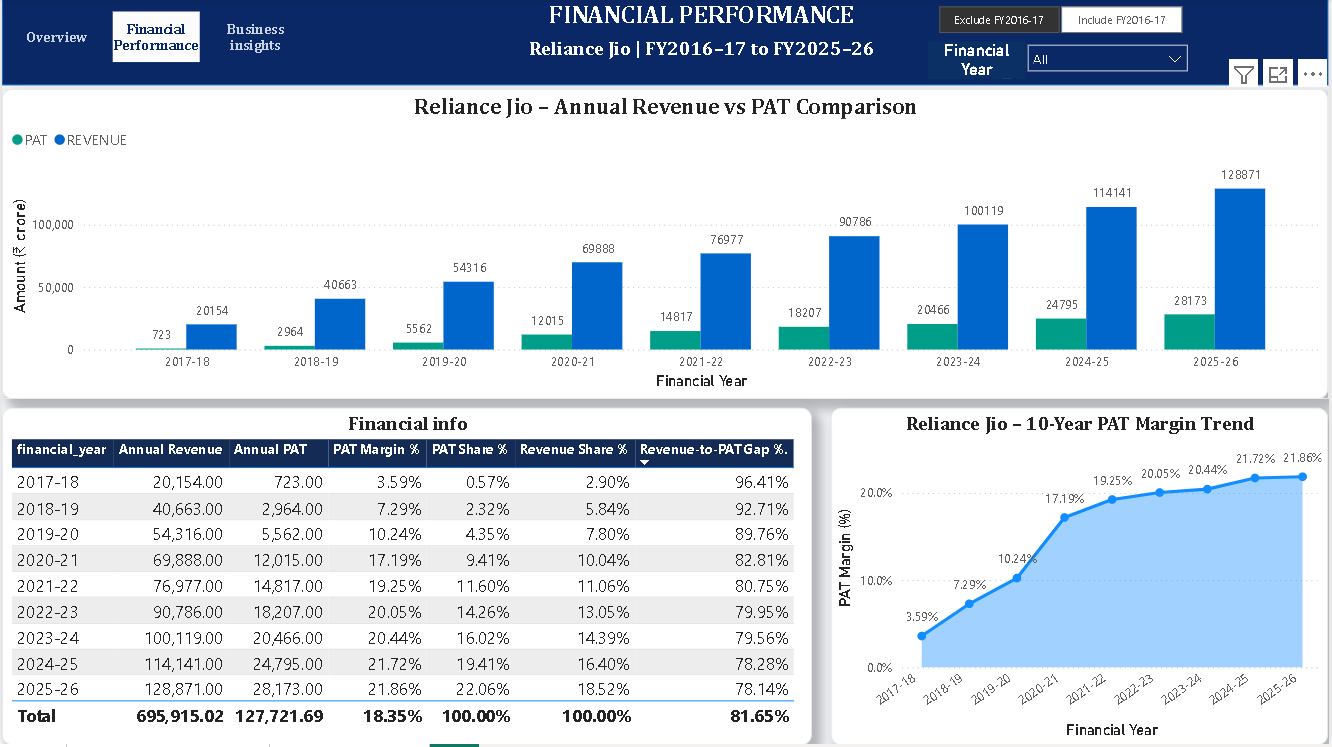

What the dashboard file says about the page in this screenshot:
{"tool":"powerbi","page":{"name":"Financial Performance","canvas":[1280,720],"ordinal":1},"visuals":[{"type":"shape","box":[0,0,1280,83.2],"z":0},{"type":"lineClusteredColumnComboChart","title":"Reliance Jio – Annual Revenue vs PAT Comparison","fields":{"Category":["public vw_jio_financial_performance.financial_year"],"Series":["public vw_jio_financial_performance.metric_code"],"Y":["public vw_jio_financial_performance.Financial Value (Selected Baseline)"]},"box":[0,86.9,1280,299.2],"z":1000},{"type":"lineChart","title":"Reliance Jio – 10-Year PAT Margin Trend","fields":{"Category":["public vw_jio_financial_performance.financial_year"],"Y":["public vw_jio_financial_performance.PAT Margin % (Selected Baseline)"]},"box":[799.9,394.5,480.2,325.7],"z":2000},{"type":"tableEx","title":"Financial info","fields":{"Values":["public vw_jio_financial_performance.financial_year","public vw_jio_financial_performance.Annual Revenue (Selected Baseline)","public vw_jio_financial_performance.Annual PAT (Selected Baseline)","public vw_jio_financial_performance.PAT Margin % (Selected Baseline)","public vw_jio_financial_performance.PAT Share % (Selected Baseline)","public vw_jio_financial_performance.Revenue Share % (Selected Baseline)","public vw_jio_financial_performance.Revenue-PAT Gap Ratio % (Selected Baseline)"]},"box":[0,394.5,781.8,325.7],"z":3000},{"type":"slicer","title":"Financial Year","fields":{"Values":["public vw_jio_financial_performance.financial_year"]},"box":[979.5,34.2,174.9,47.7],"z":4000},{"type":"slicer","fields":{"Values":["Baseline Toggle.View"]},"box":[878.3,0,284.7,39.8],"z":5000},{"type":"textbox","title":"FINANCIAL PERFORMANCE","box":[371.7,0,607.7,81.9],"z":6000},{"type":"textbox","title":"Financial Year","box":[894,41,94.1,36.2],"z":7000},{"type":"pageNavigator","box":[10.9,12.1,278.7,49.5],"z":8000}]}

Visuals, with their boxes on the page's 1280x720 design canvas (x1, y1, x2, y2). These are canvas units, not pixel positions in the 1332x747 screenshot, which may show the page scaled, cropped or inside an application window:
shape: box(0, 0, 1280, 83)
"Reliance Jio – Annual Revenue vs PAT Comparison" lineClusteredColumnComboChart: box(0, 87, 1280, 386)
"Reliance Jio – 10-Year PAT Margin Trend" lineChart: box(800, 394, 1280, 720)
"Financial info" tableEx: box(0, 394, 782, 720)
"Financial Year" slicer: box(980, 34, 1154, 82)
slicer - Baseline Toggle.View: box(878, 0, 1163, 40)
"FINANCIAL PERFORMANCE" textbox: box(372, 0, 979, 82)
"Financial Year" textbox: box(894, 41, 988, 77)
pageNavigator: box(11, 12, 290, 62)
